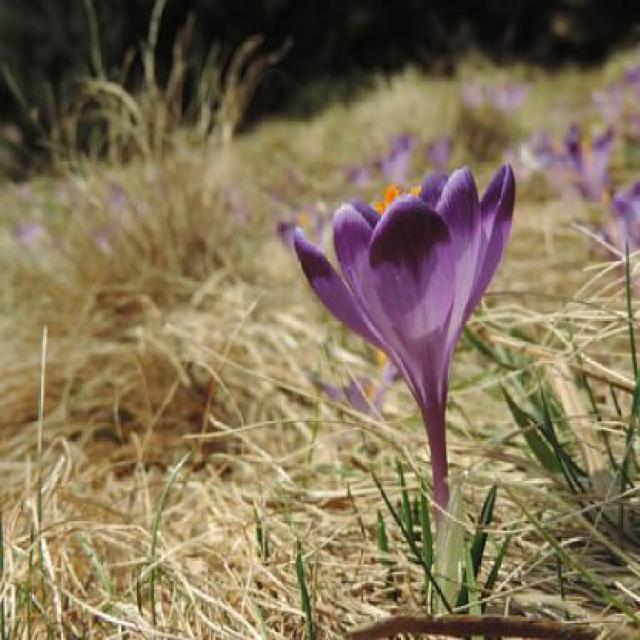Flower: (295, 165, 530, 427)
